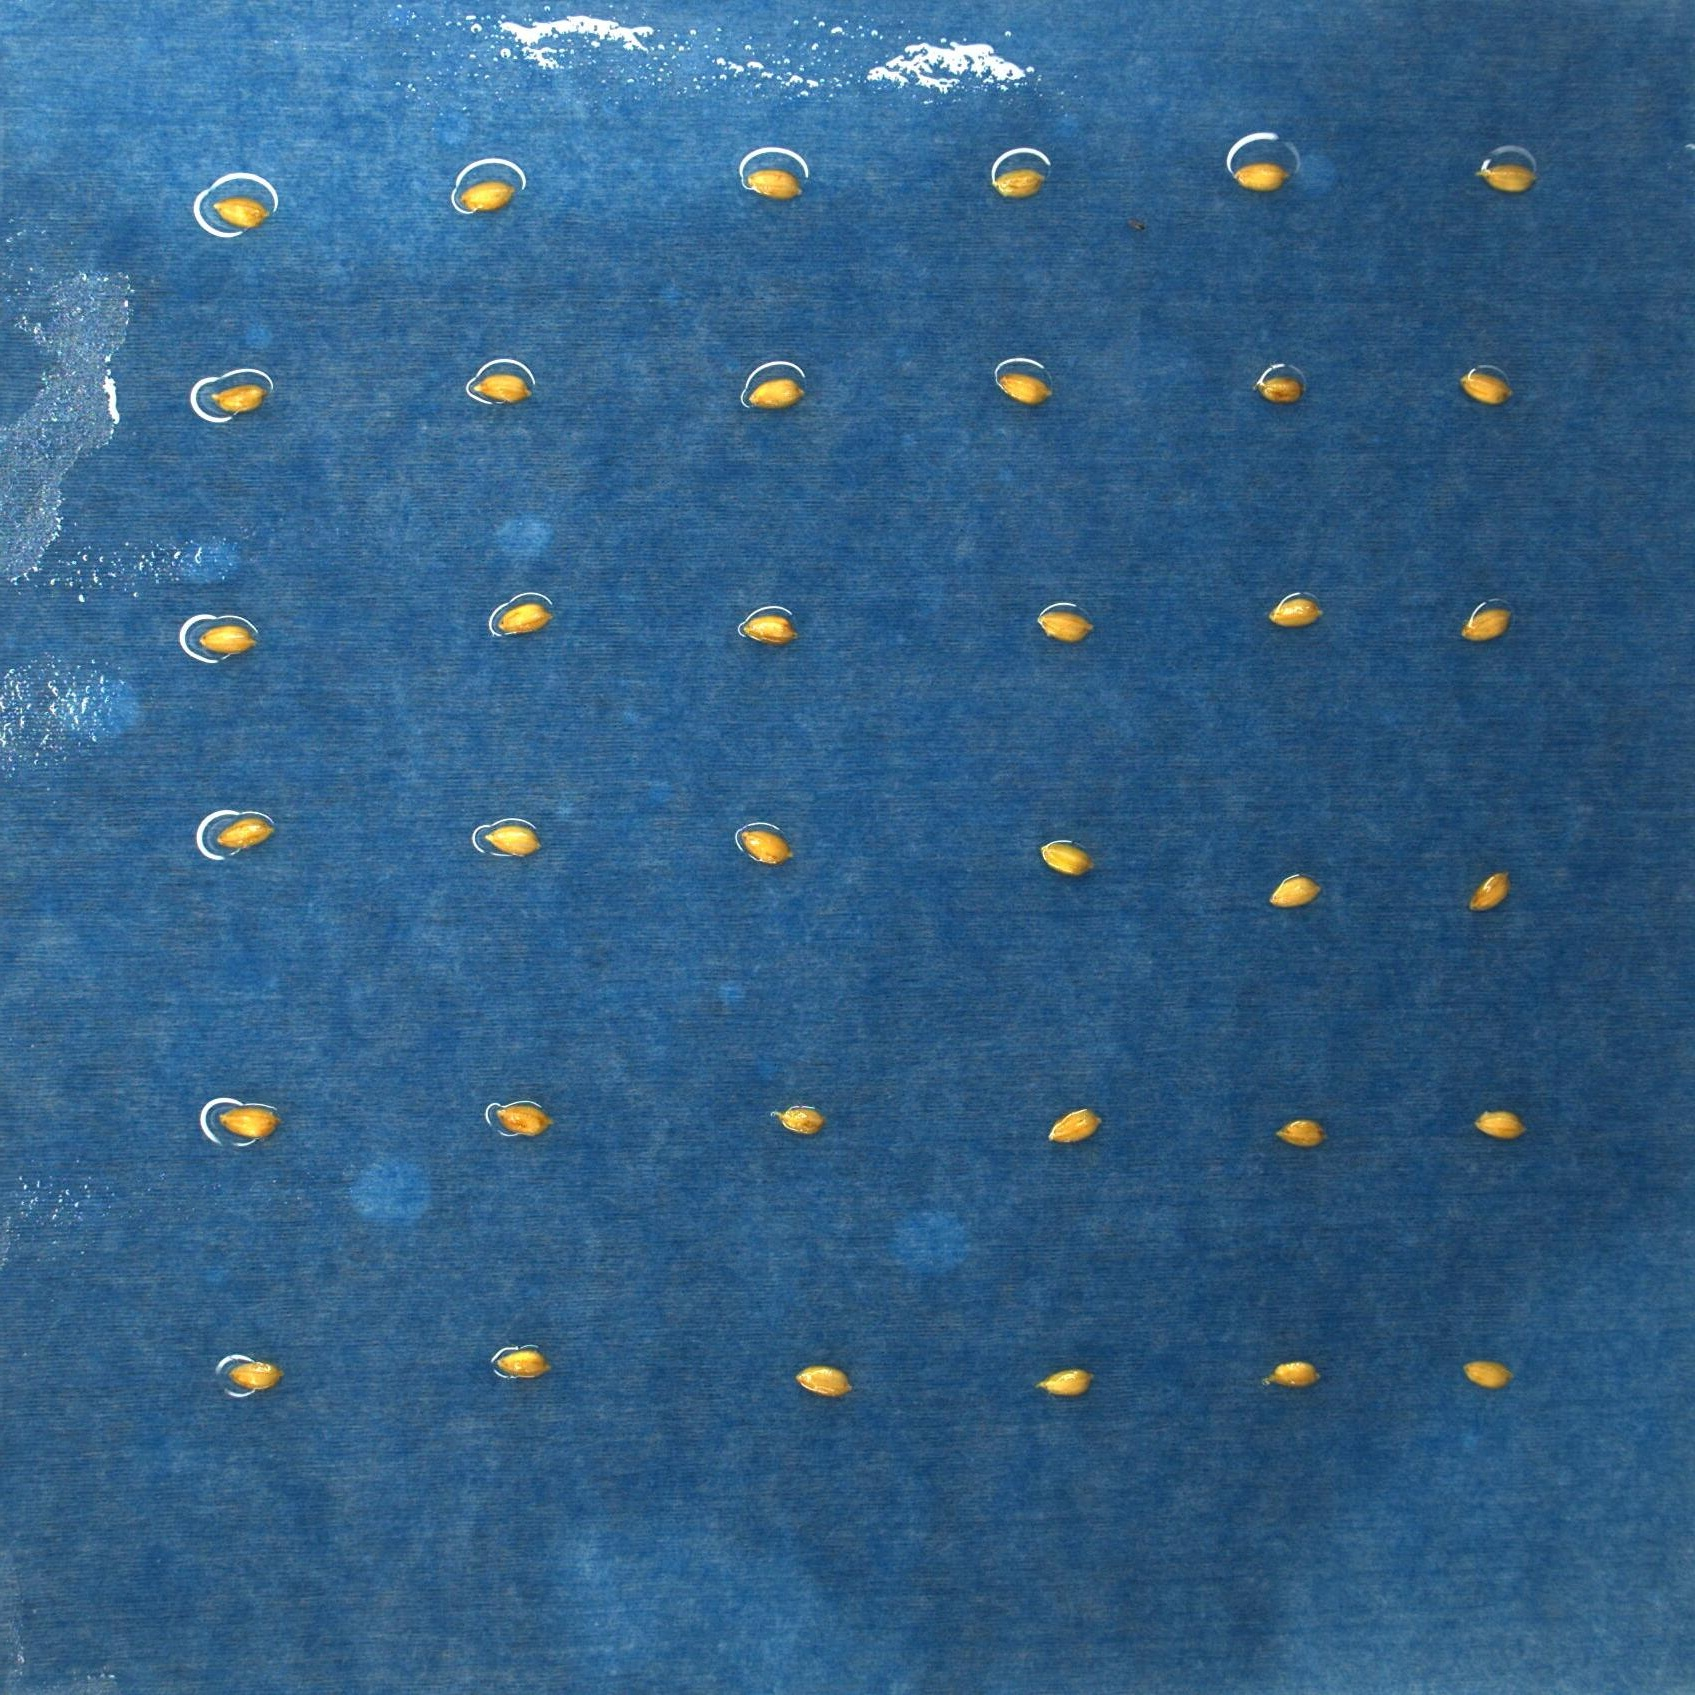not sprout: (489, 590, 557, 643), (210, 812, 284, 860), (1040, 1097, 1108, 1149), (1462, 860, 1518, 920), (737, 160, 807, 206), (736, 816, 796, 869), (785, 1364, 857, 1406), (495, 1340, 551, 1391), (475, 821, 543, 863), (1038, 834, 1094, 885), (987, 163, 1055, 205), (1482, 152, 1541, 200), (464, 366, 529, 410), (1034, 596, 1094, 643), (1263, 869, 1324, 916), (203, 376, 265, 421), (1263, 581, 1319, 630), (993, 363, 1051, 410), (740, 369, 806, 410), (484, 1104, 557, 1139), (1229, 154, 1287, 199), (445, 179, 517, 214), (1458, 601, 1518, 643), (740, 605, 796, 650), (1270, 1111, 1326, 1156), (1458, 362, 1513, 407), (764, 1101, 827, 1138), (1267, 1352, 1322, 1394), (189, 621, 255, 657), (224, 1357, 284, 1394), (1468, 1104, 1527, 1141), (220, 1105, 275, 1146), (1256, 366, 1305, 408), (1458, 1357, 1513, 1394), (203, 199, 269, 227), (1038, 1364, 1094, 1395)
